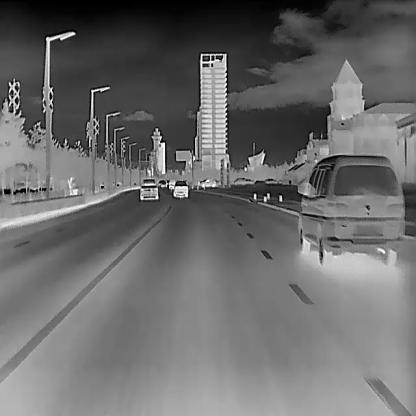car: (296, 152, 404, 265), (138, 178, 158, 199), (172, 180, 188, 196), (198, 177, 216, 188), (166, 176, 176, 190), (265, 177, 277, 184)
